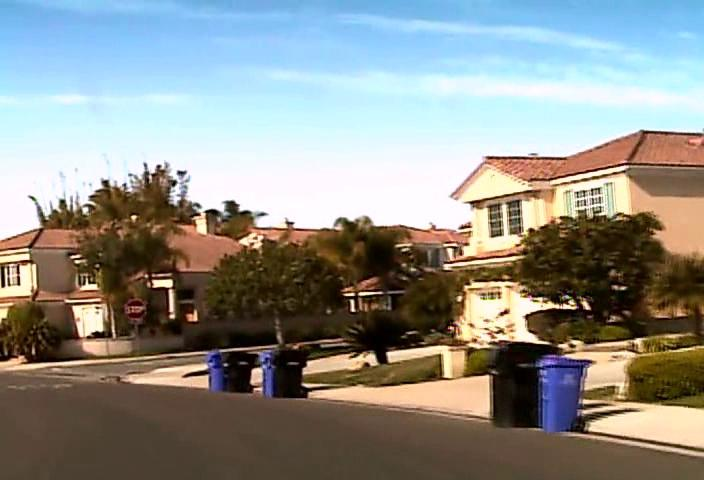stop: (123, 298, 146, 320)
